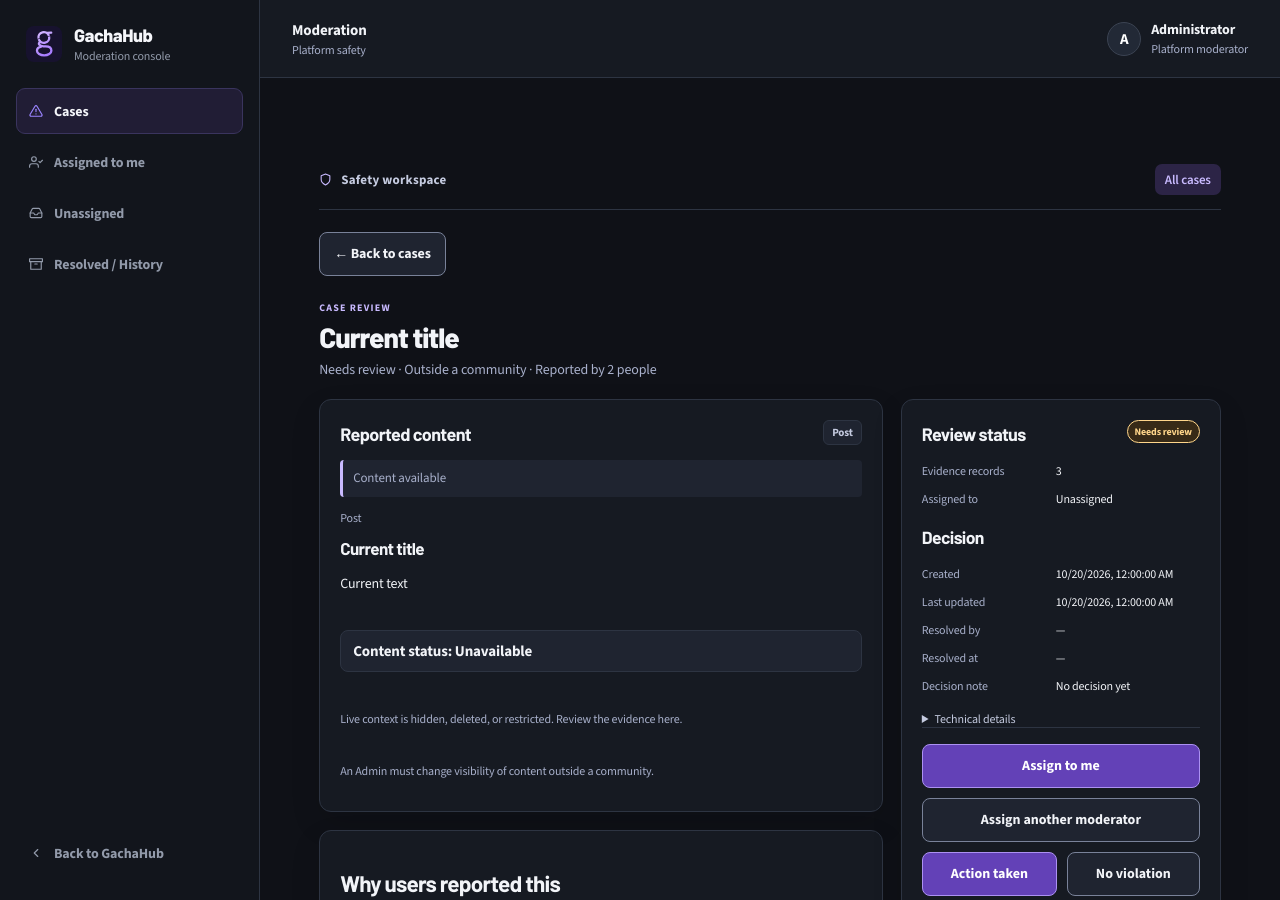
Test: keeps IDs collapsed, hides absent risk and separates reason aggregates from evidence
expect the heading "Why users reported this" is shown: met, box [340,869,560,897]
expect the heading "Current title" below "Case review" is shown: met, box [319,320,459,354]
Click the heading "Technical details". click: (975,720)
box: [934,712,1015,728]
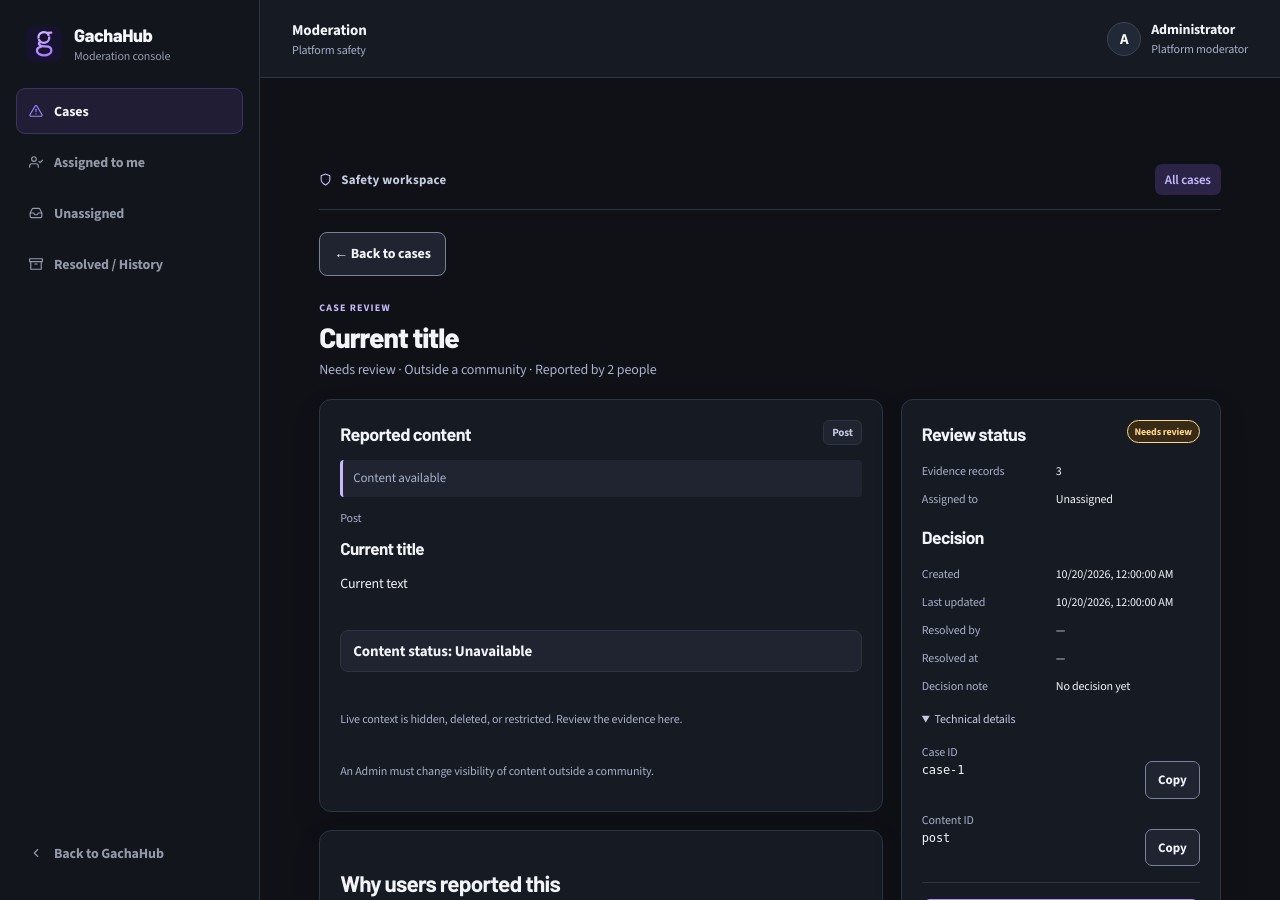
expect the text "case-1" is shown: met, box [922,764,964,778]
